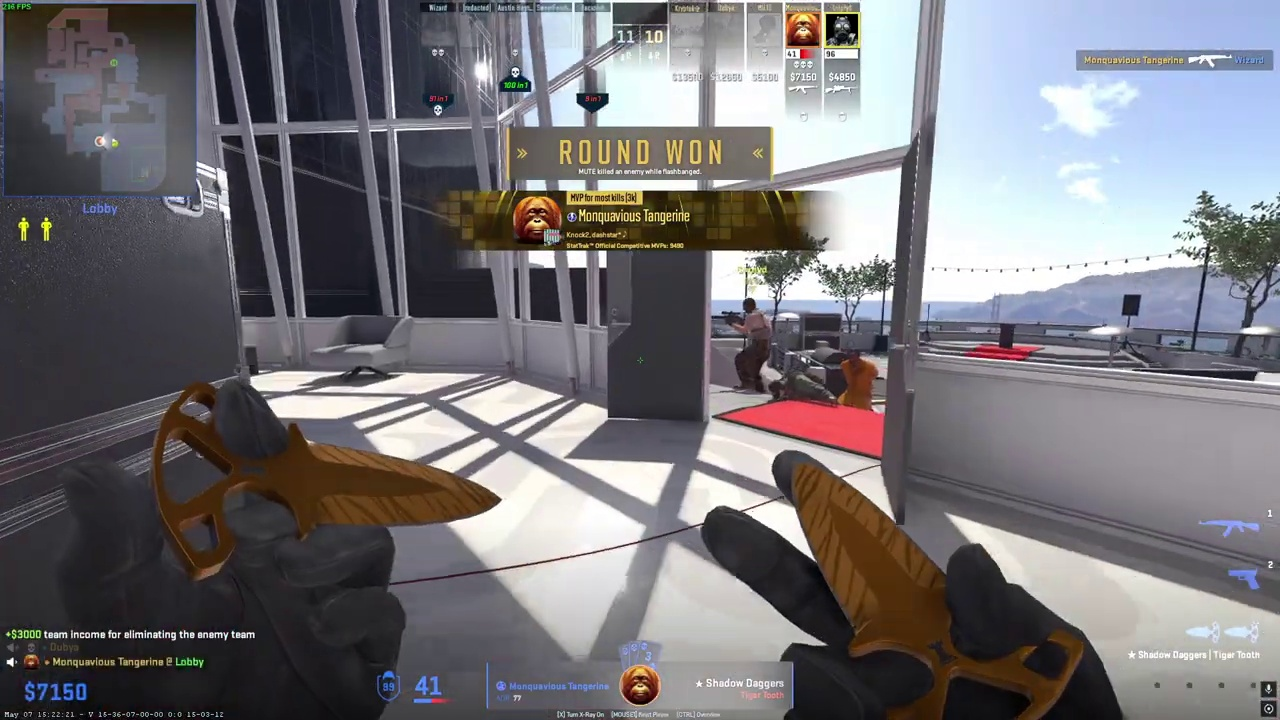Terrorist: (730, 296, 771, 395)
